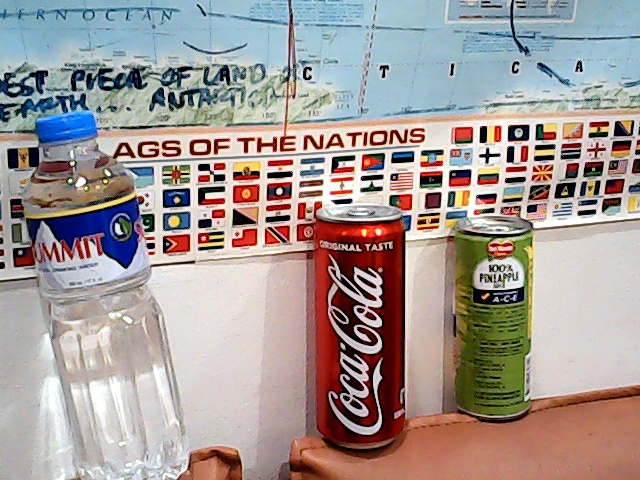Cola: (304, 196, 419, 454)
Pine Juice: (440, 199, 548, 424)
Summit Water: (24, 98, 172, 480)
